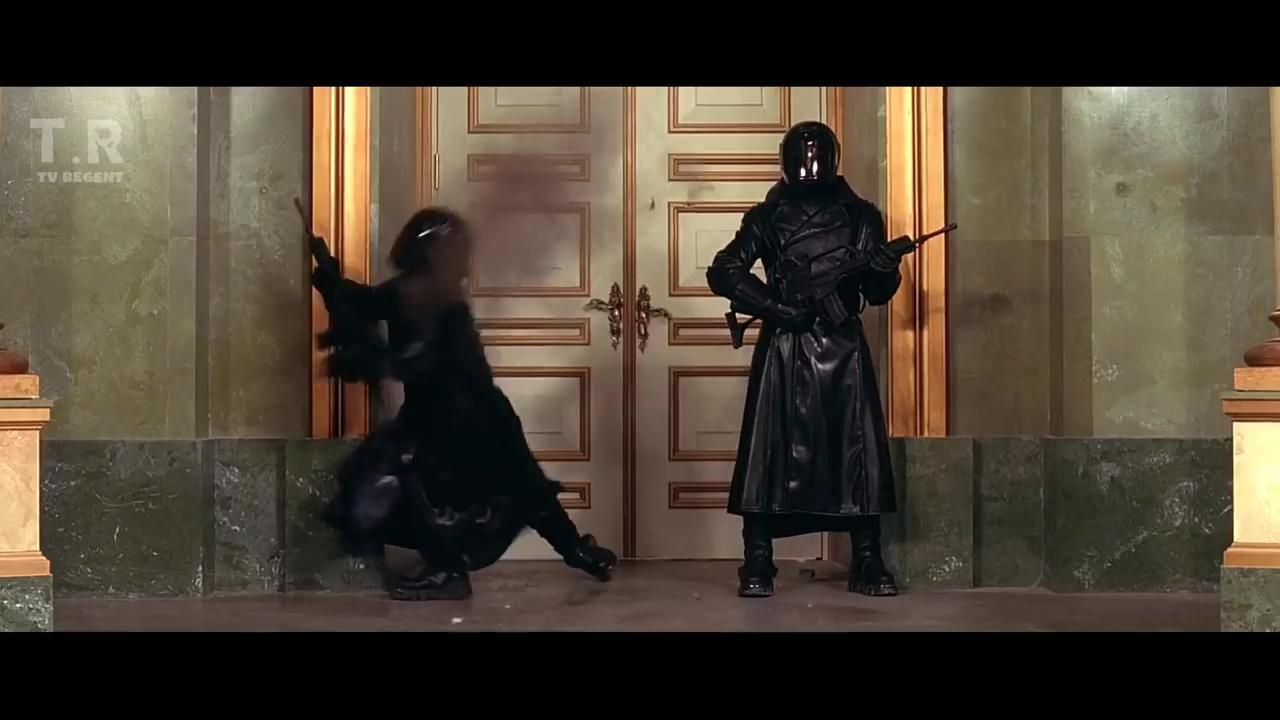Gun: (723, 222, 963, 351), (290, 197, 385, 387)
